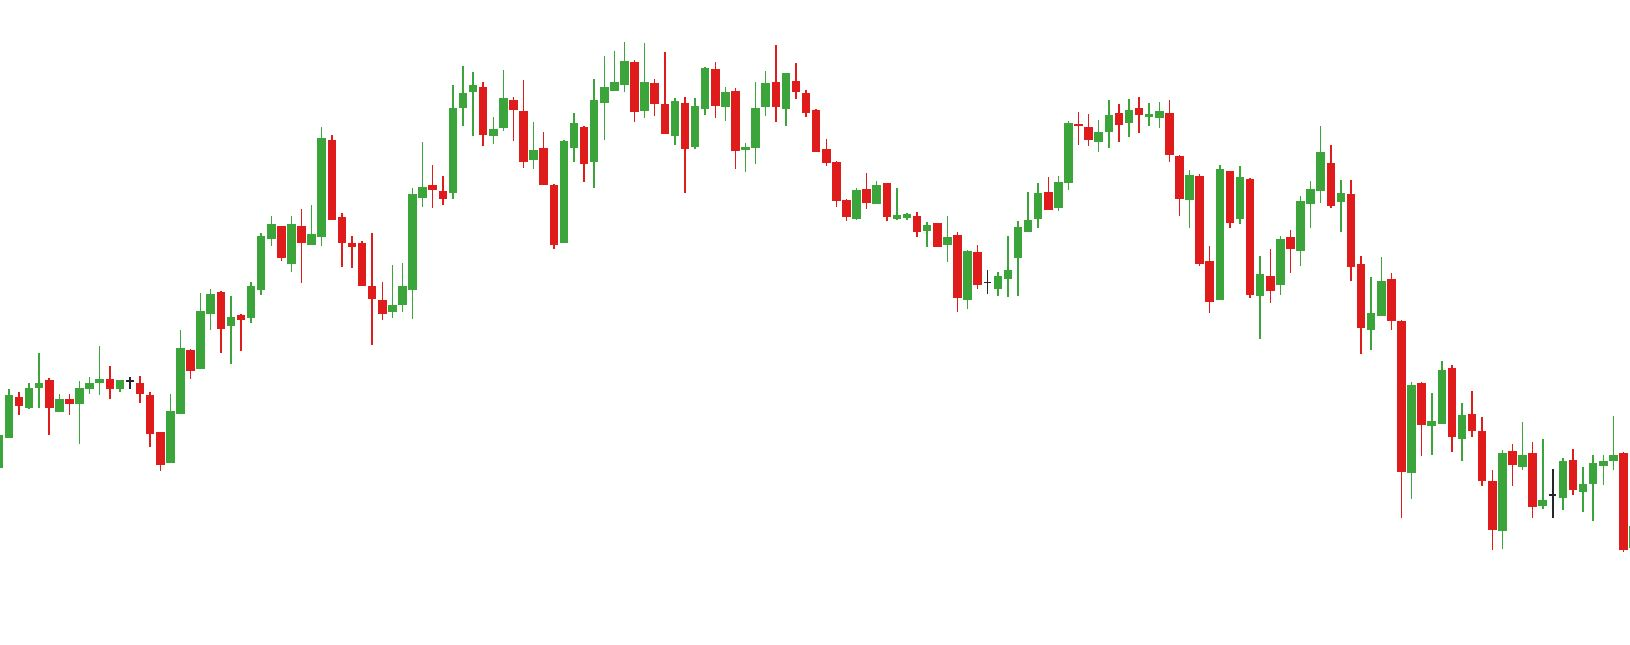buy: (297, 186, 421, 350), (428, 132, 570, 252), (72, 376, 177, 471)
sell: (1216, 113, 1338, 250), (698, 37, 783, 135)
